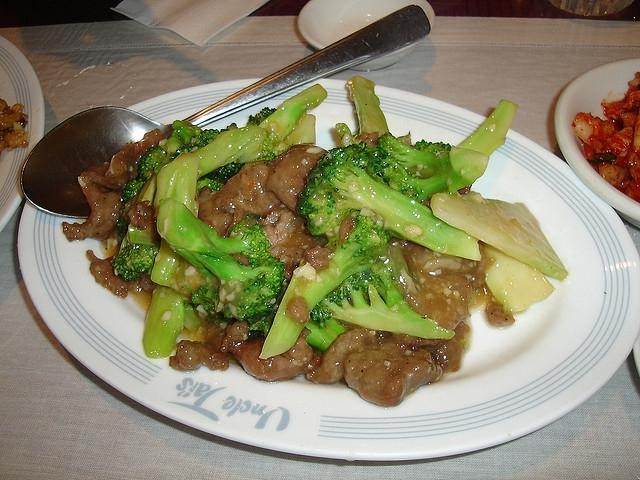broccoli: (296, 142, 482, 262), (258, 214, 394, 360), (157, 198, 286, 339), (312, 243, 456, 340), (376, 133, 489, 203), (191, 126, 287, 179), (258, 84, 328, 141), (456, 99, 518, 157), (143, 284, 185, 358), (154, 152, 200, 215), (346, 75, 390, 138), (110, 234, 160, 280), (304, 314, 350, 354), (138, 146, 168, 183), (122, 180, 145, 204)
